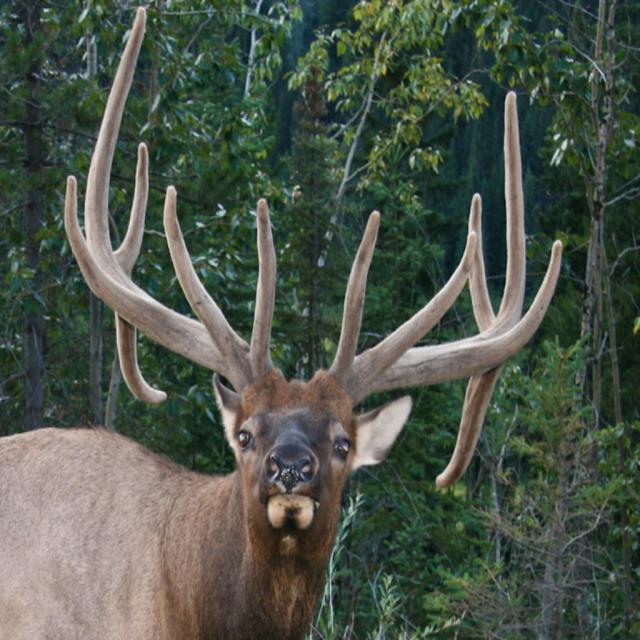Deer: (0, 6, 562, 640)
